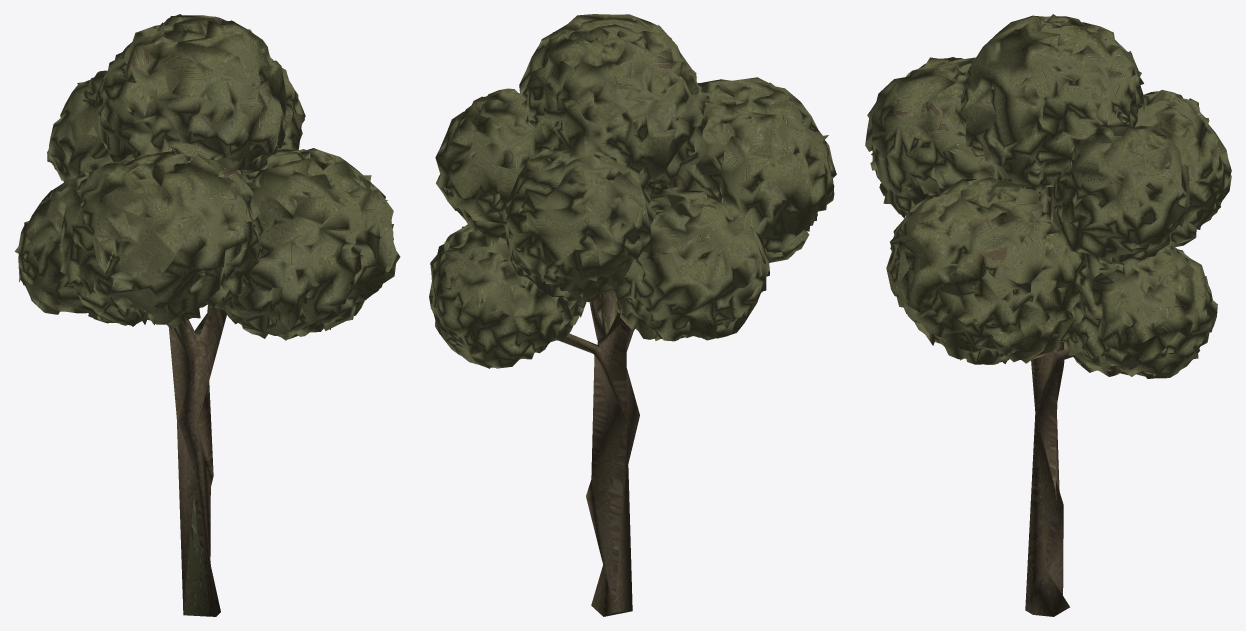
File: encina_joven_alto.glb
3 views of the same model, side by side, from view 1: azimuth 30°, elevation 25°; view 2: azimuth 150°, elevation 25°; view 3: azimuth 270°, elevation 25° (orthographic).
Parts seen in each view (by area): view 1: alto; view 2: alto; view 3: alto.
Boxes of the visible parts, bbox=[...] form: alto: bbox=[14, 14, 400, 616]; alto: bbox=[429, 14, 836, 616]; alto: bbox=[865, 14, 1231, 616].
Size of the model in its own units: 2.31 by 3.99 by 2.28.
Materials: 1 (1 with a texture image).
